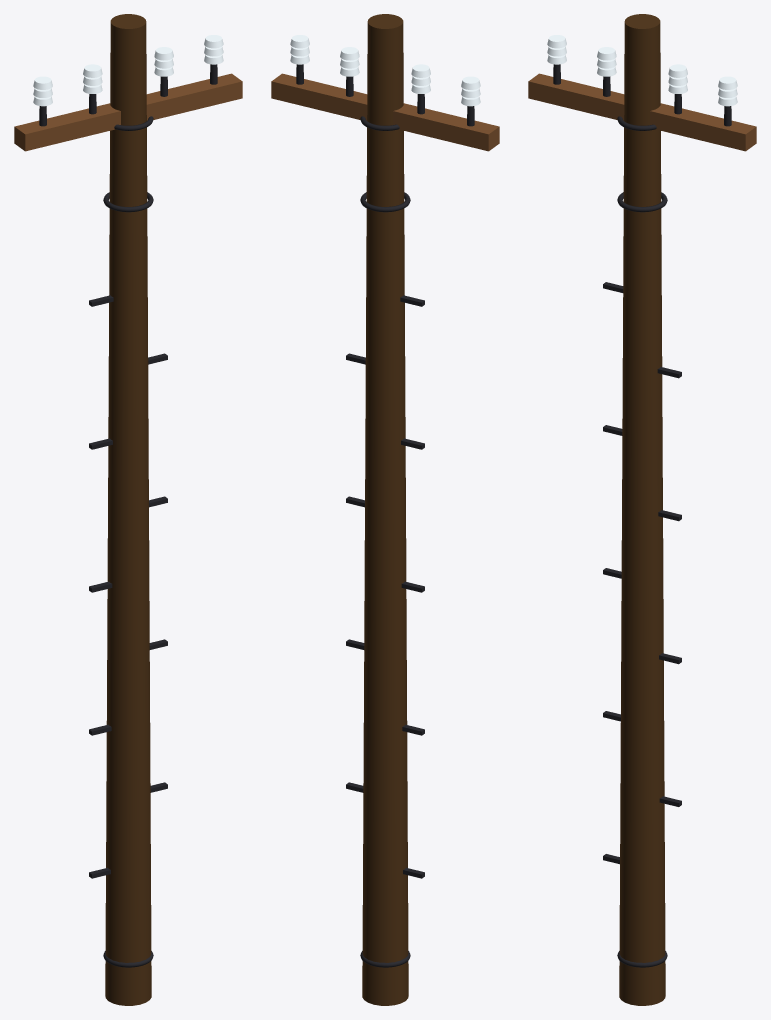
File: mia-pole.glb
The picture shows the model from 3 angles, left to right: view 1: azimuth 30°, elevation 25°; view 2: azimuth 150°, elevation 25°; view 3: azimuth 330°, elevation 25°; orthographic projection.
Visible parts, largest first — view 1: Body_wood, Body_oak, Body_iron, Body_porcelain; view 2: Body_wood, Body_oak, Body_iron, Body_porcelain; view 3: Body_wood, Body_oak, Body_iron, Body_porcelain.
Boxes of the visible parts, x1,y1,x2,y2 form: Body_wood: (105, 14, 151, 1005); Body_oak: (14, 73, 242, 151); Body_iron: (39, 64, 217, 967); Body_porcelain: (33, 35, 223, 106); Body_wood: (362, 14, 408, 1005); Body_oak: (271, 73, 499, 151); Body_iron: (296, 64, 474, 967); Body_porcelain: (290, 35, 480, 106); Body_wood: (619, 14, 665, 1005); Body_oak: (528, 73, 756, 151); Body_iron: (553, 64, 731, 967); Body_porcelain: (547, 35, 737, 106).
Bounding box in the file's own units: 1.4 × 6 × 0.28.
